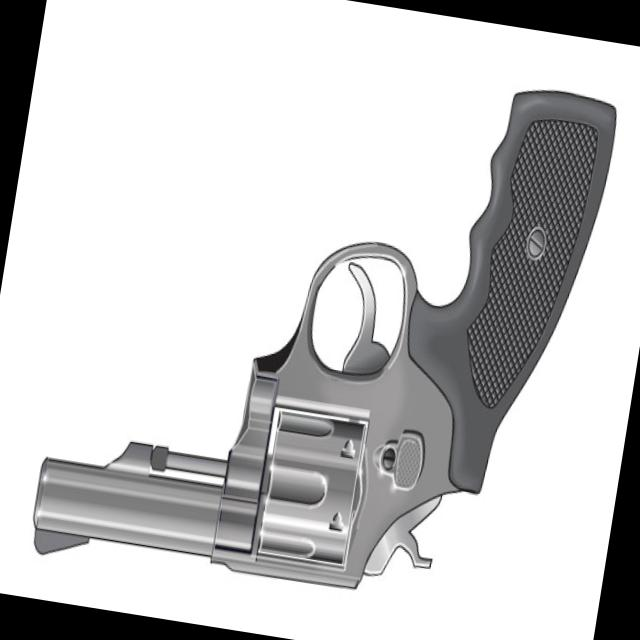Weapon: (17, 13, 631, 640)
